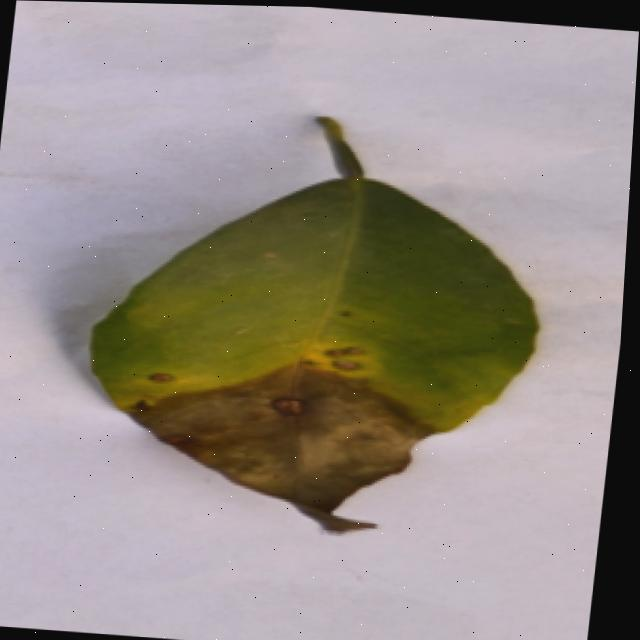canker: (94, 118, 539, 530), (261, 352, 327, 442)
